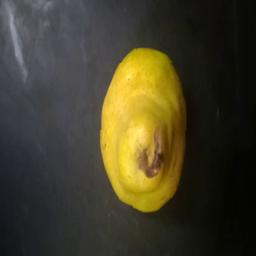Pear Fresh: (68, 28, 197, 218)
